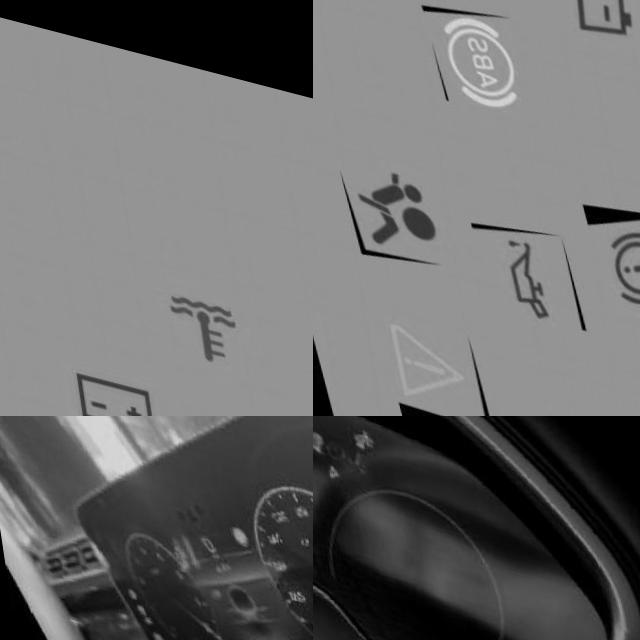High Engine Coolant Temperature: (341, 434, 367, 465)
